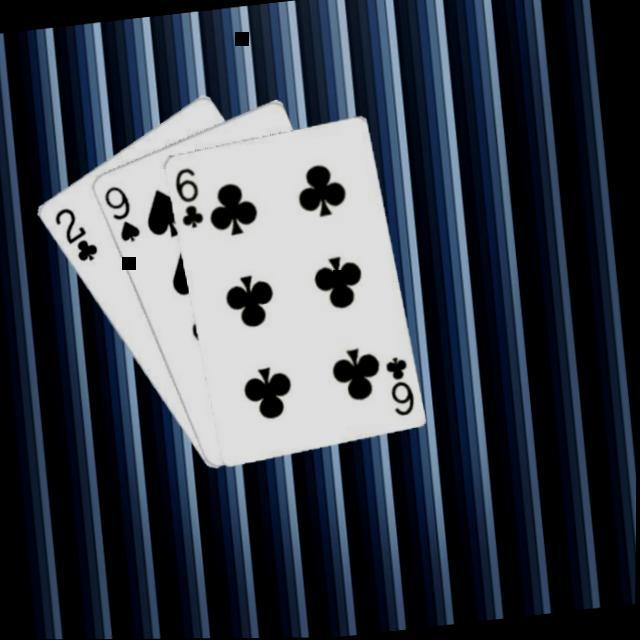2C: (47, 199, 99, 265)
6C: (378, 349, 416, 418), (168, 161, 205, 230)
9S: (98, 178, 142, 246)
